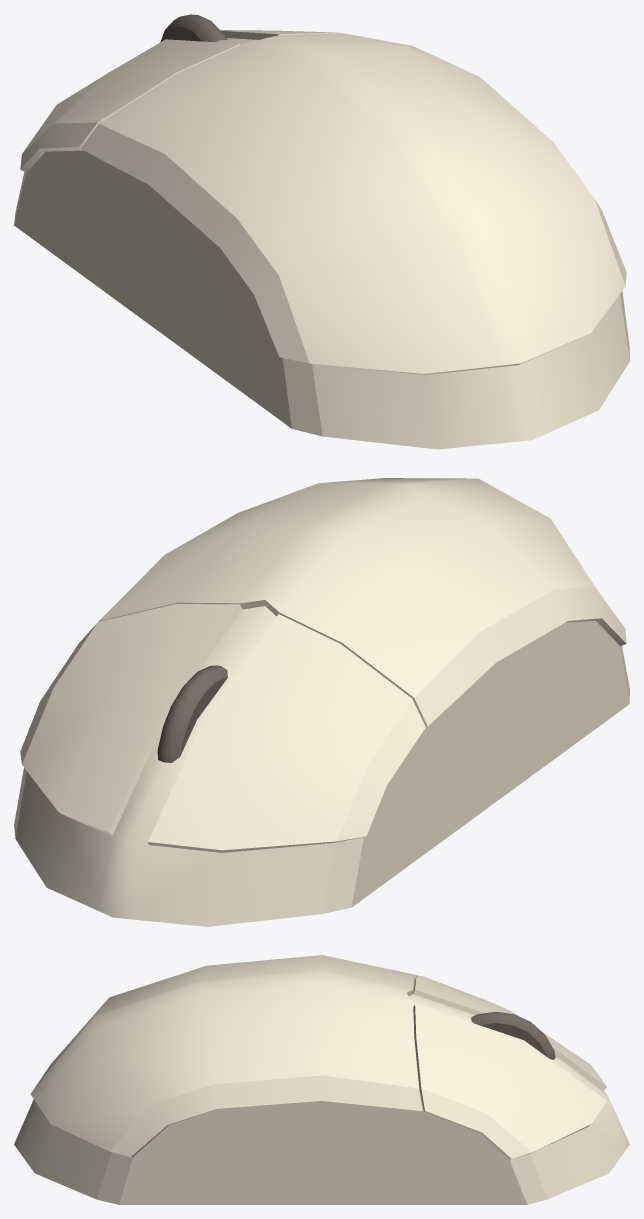
Rendered from SM_Mouse.fbx.
3 renders of one model, top to bottom at view 1: azimuth 30°, elevation 25°; view 2: azimuth 150°, elevation 25°; view 3: azimuth 270°, elevation 25°, orthographic. The views are drawn at different scales.
Visible parts, largest first — view 1: SM_Mouse; view 2: SM_Mouse; view 3: SM_Mouse.
Boxes of the visible parts, x1,y1,x2,y2 form: SM_Mouse: [14, 14, 629, 449]; SM_Mouse: [14, 478, 629, 926]; SM_Mouse: [14, 955, 629, 1204].
Size of the model in its own units: 0.0709 by 0.0455 by 0.1482.
